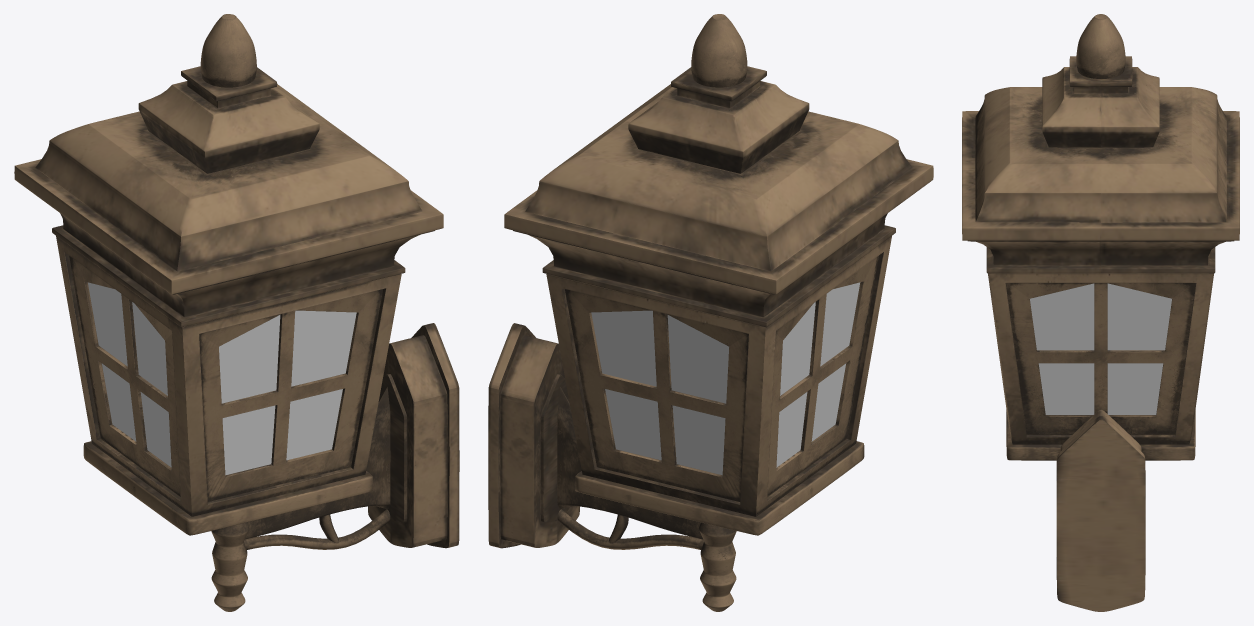
The model's file is uploads_files_3675116_untitled.fbx.
3 views of the same model, side by side, from view 1: azimuth 30°, elevation 25°; view 2: azimuth 150°, elevation 25°; view 3: azimuth 270°, elevation 25° (orthographic). The views are drawn at different scales.
Visible parts, largest first — view 1: Cube.002, Cube, Plane.001, Cube.005, Cube.006, Cube.009, Cube.010, Cube.001, Plane, Cylinder.001, Cylinder, Plane.002; view 2: Cube.002, Cube, Plane.001, Cube.003, Cube.004, Cube.009, Cube.010, Cube.001, Plane, Cylinder.001, Cylinder, Plane.002; view 3: Cube.002, Plane.001, Cube.008, Cube.007, Cube, Cylinder.001, Cube.001.
Part boxes in pixels (x1=…): Cube.002: x1=14, y1=66, x2=443, y2=327; Cube: x1=56, y1=236, x2=401, y2=516; Plane.001: x1=368, y1=323, x2=459, y2=548; Cube.005: x1=199, y1=289, x2=383, y2=501; Cube.006: x1=219, y1=310, x2=356, y2=475; Cube.009: x1=69, y1=256, x2=180, y2=496; Cube.010: x1=88, y1=282, x2=171, y2=467; Cube.001: x1=83, y1=441, x2=372, y2=535; Plane: x1=245, y1=387, x2=390, y2=539; Cylinder.001: x1=200, y1=14, x2=256, y2=87; Cylinder: x1=211, y1=522, x2=248, y2=611; Plane.002: x1=244, y1=509, x2=390, y2=549; Cube.002: x1=504, y1=66, x2=933, y2=327; Cube: x1=546, y1=236, x2=891, y2=516; Plane.001: x1=488, y1=323, x2=579, y2=548; Cube.003: x1=565, y1=289, x2=748, y2=501; Cube.004: x1=591, y1=310, x2=728, y2=475; Cube.009: x1=767, y1=256, x2=878, y2=496; Cube.010: x1=776, y1=282, x2=860, y2=467; Cube.001: x1=575, y1=441, x2=864, y2=535; Plane: x1=557, y1=387, x2=702, y2=539; Cylinder.001: x1=691, y1=14, x2=747, y2=87; Cylinder: x1=699, y1=522, x2=736, y2=611; Plane.002: x1=557, y1=509, x2=703, y2=549; Cube.002: x1=962, y1=56, x2=1239, y2=273; Plane.001: x1=1056, y1=410, x2=1145, y2=611; Cube.008: x1=1030, y1=283, x2=1171, y2=414; Cube.007: x1=1006, y1=283, x2=1195, y2=434; Cube: x1=988, y1=273, x2=1213, y2=444; Cylinder.001: x1=1076, y1=14, x2=1125, y2=78; Cube.001: x1=1006, y1=410, x2=1195, y2=460.
Size of the model in its own units: 133 by 220 by 106.
